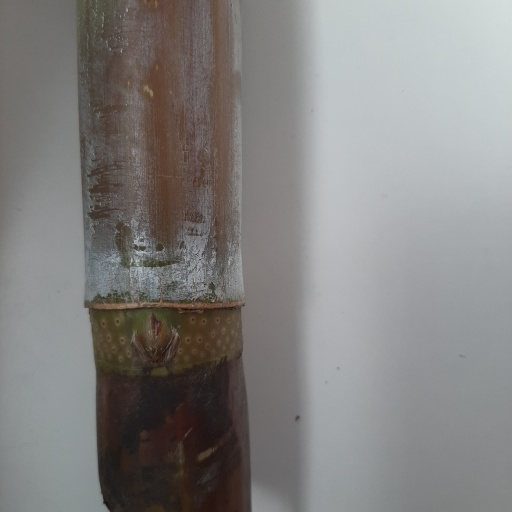Bud: (138, 311, 177, 366)
